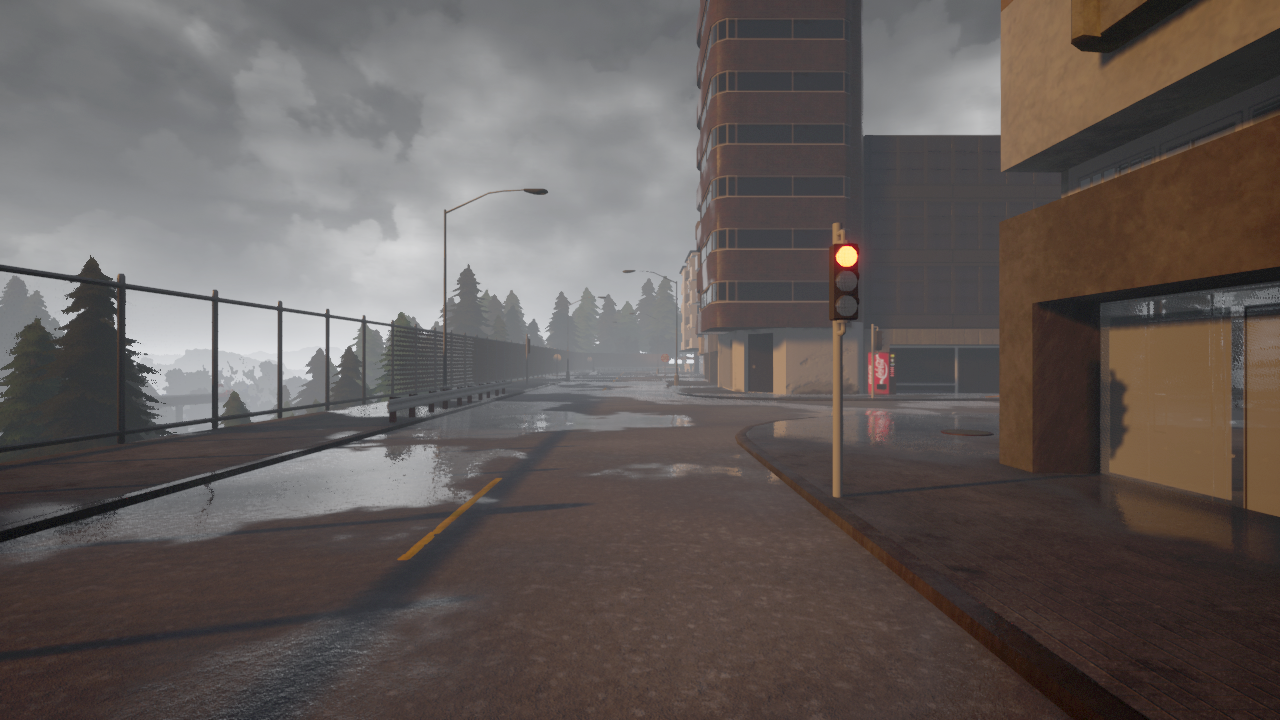red: (826, 241, 860, 322)
